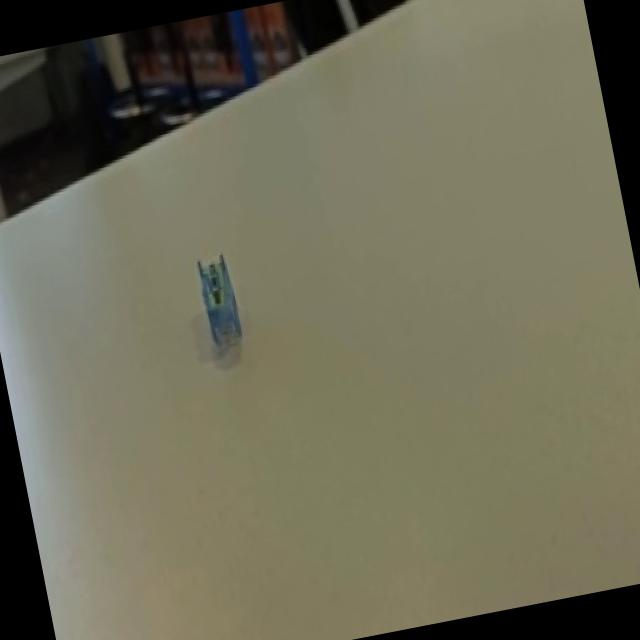3_NanoBug_Celeste: (146, 218, 298, 388)
